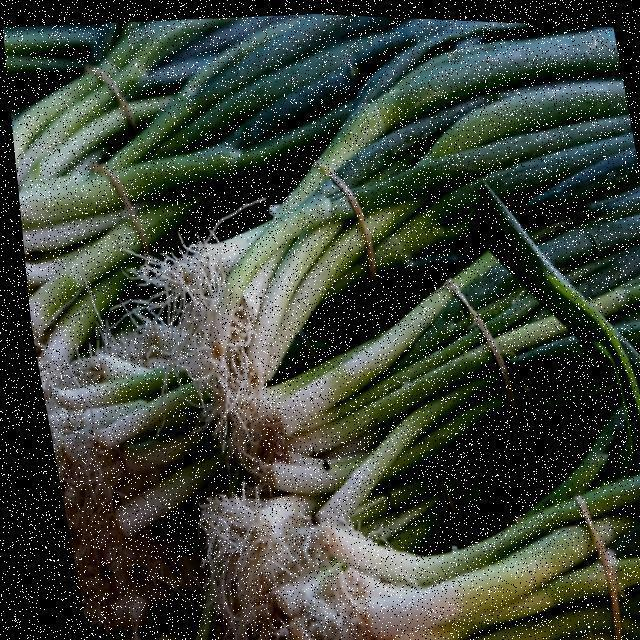green_onion: (177, 0, 640, 405), (217, 189, 640, 479), (19, 0, 338, 342), (181, 486, 640, 640)
